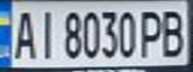0: (78, 7, 103, 60), (118, 7, 139, 60)
3: (100, 7, 121, 60)
8: (57, 7, 84, 60)
A: (6, 6, 39, 61)
B: (157, 6, 190, 57)
I: (33, 6, 57, 60)
P: (136, 7, 166, 58)
